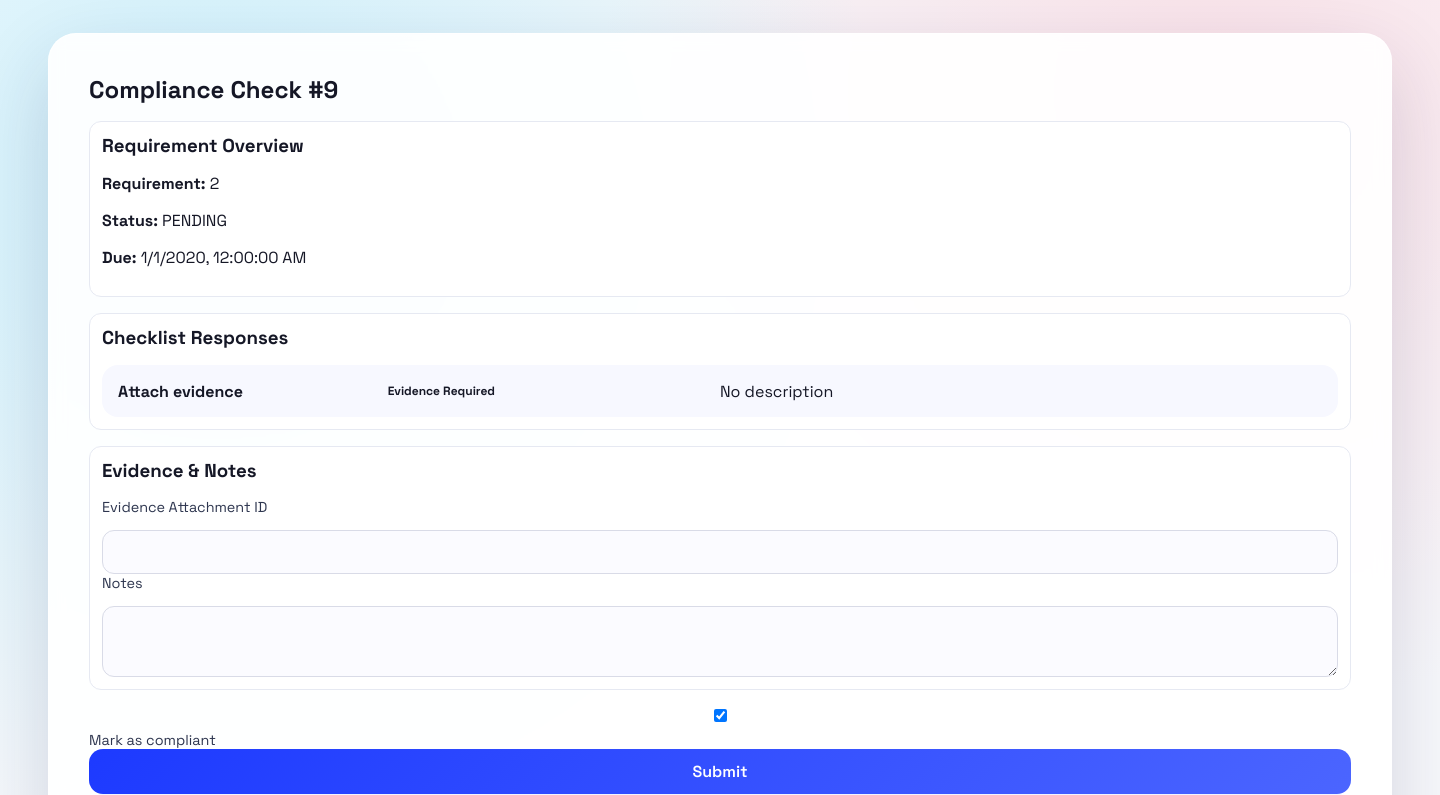
Test: Compliance status visualization › shows waiver confirmation modal and non-compliant reason requirement
Click the checkbox labelled "Mark as compliant" at (720, 716), box [93,709,1348,722]
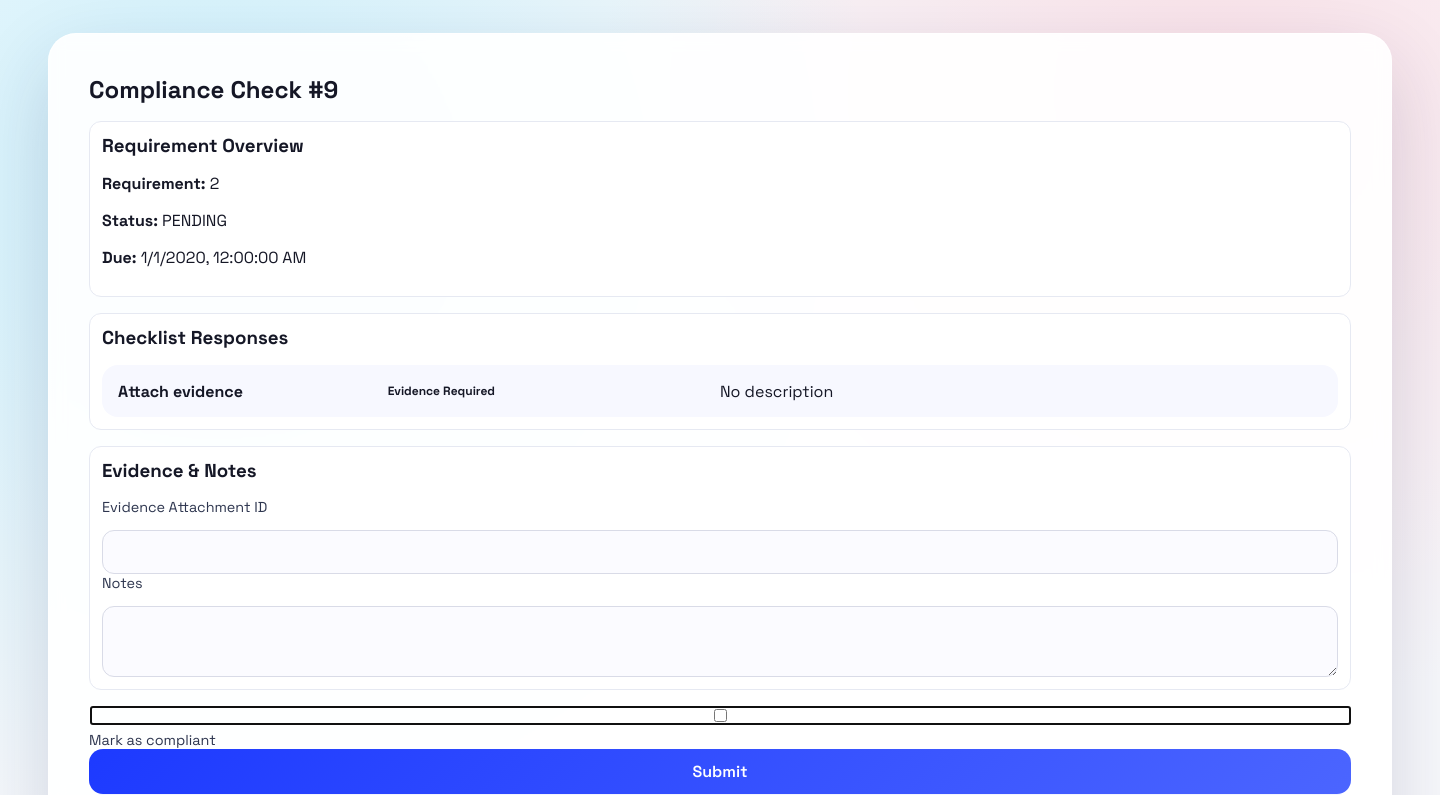
Click the button "Submit" at (720, 772), box [89,749,1351,794]
(page scrolled)
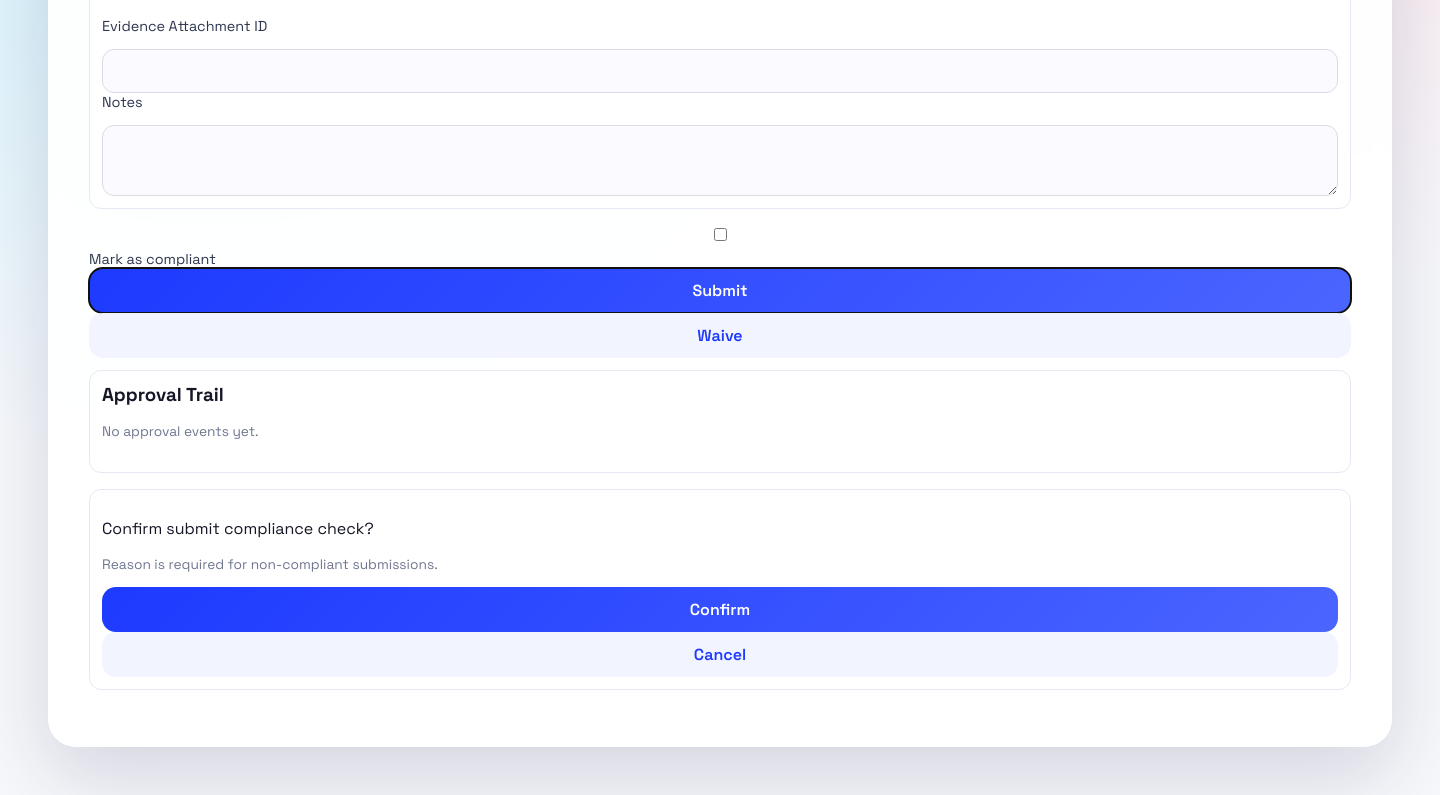
Now the dialog named "Submit confirmation" is shown, box [89,489,1351,690]
Click the button "Confirm" at (720, 609), box [102,587,1338,632]
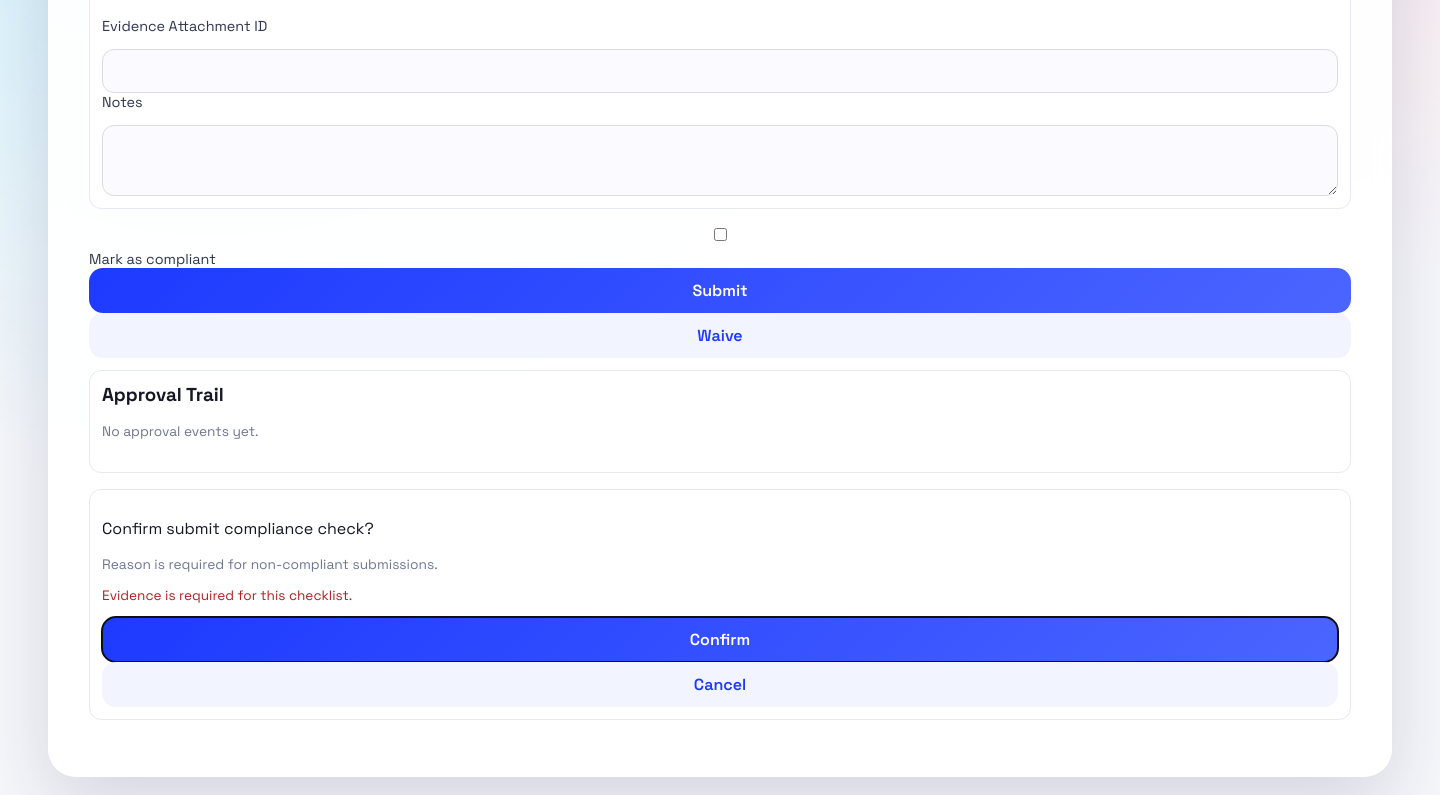
Now the text "Reason is required for non-compliant submissions." is shown, box [102,555,438,573]
Click the button "Waive" at (720, 336), box [89,313,1351,358]
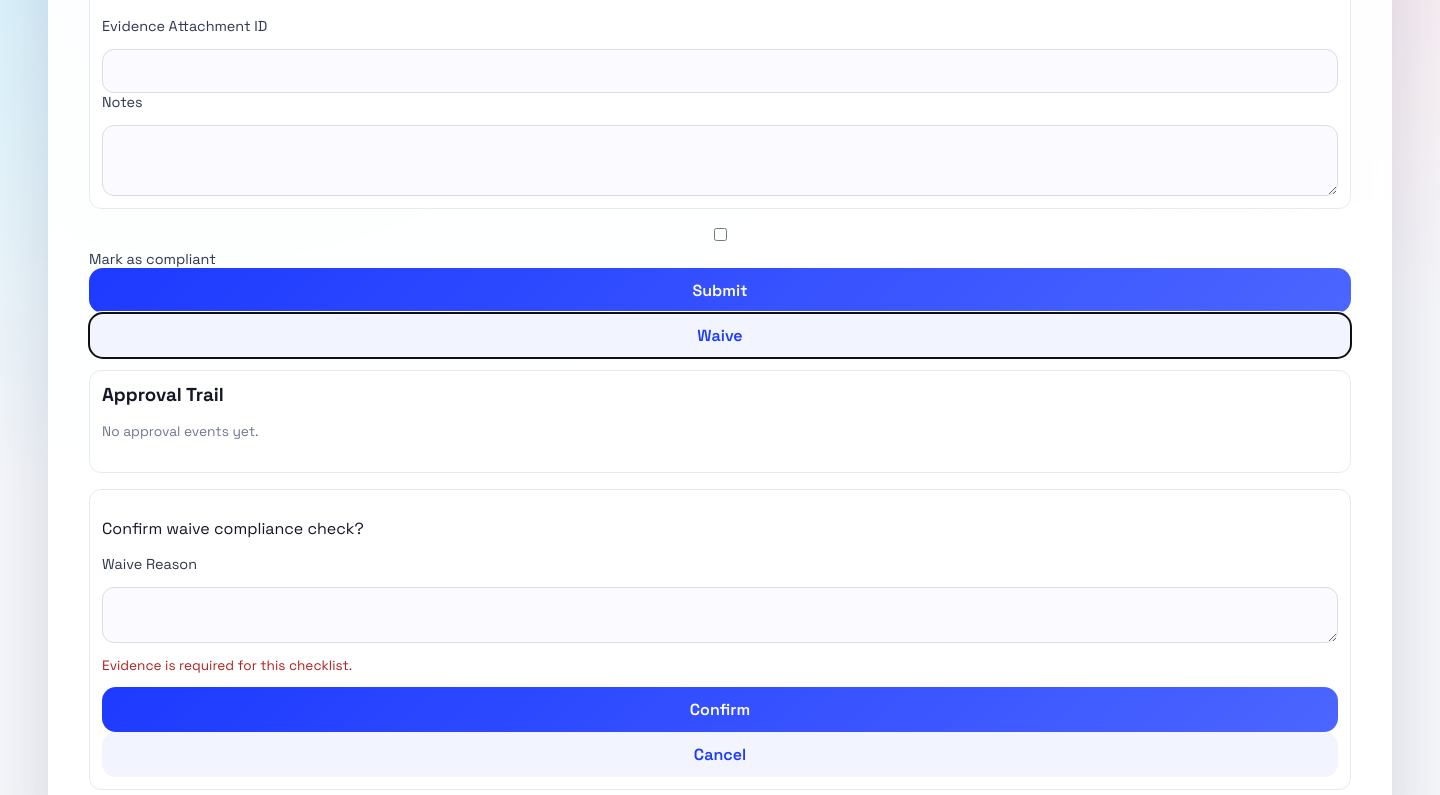
Now the dialog named "Waive confirmation" is shown, box [89,489,1351,790]
